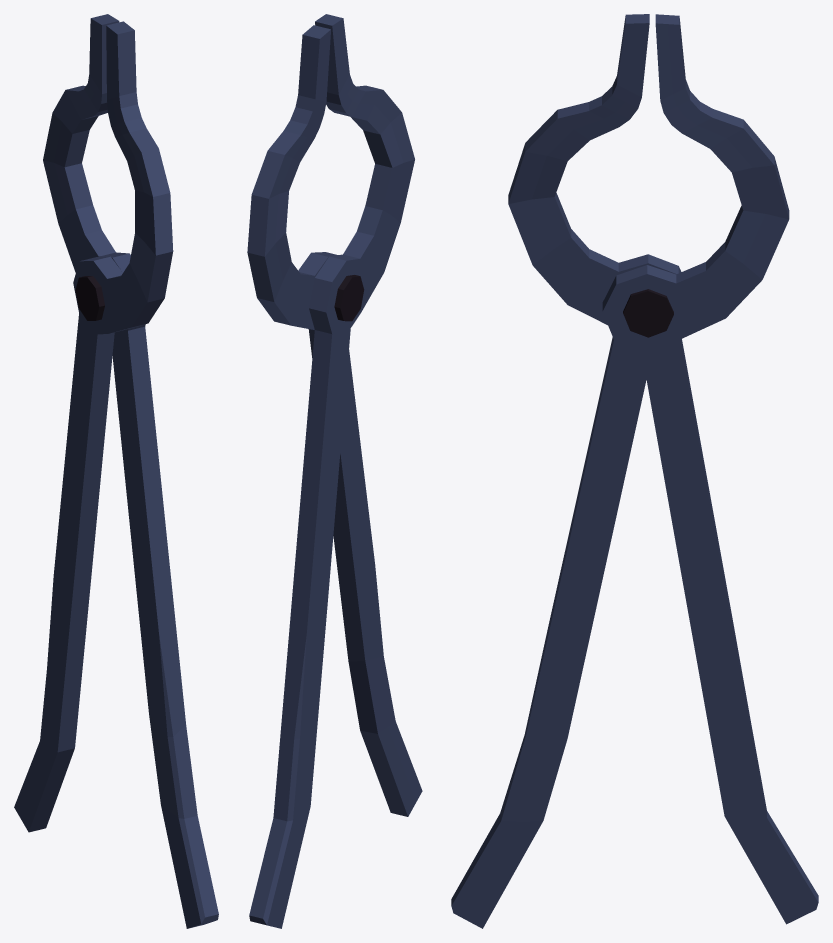
File: PIncers_02.fbx
The picture shows the model from 3 angles, left to right: view 1: azimuth 30°, elevation 25°; view 2: azimuth 150°, elevation 25°; view 3: azimuth 270°, elevation 25°; orthographic projection. The views are drawn at different scales.
Visible parts, largest first — view 1: PoorMan Pincers_02, PoorMan Pincers_02_Arm; view 2: PoorMan Pincers_02, PoorMan Pincers_02_Arm; view 3: PoorMan Pincers_02_Arm, PoorMan Pincers_02.
Part boxes in pixels (box(x1,y1,x2,y2)): PoorMan Pincers_02: box(14, 21, 173, 832); PoorMan Pincers_02_Arm: box(43, 14, 218, 928); PoorMan Pincers_02: box(249, 14, 414, 928); PoorMan Pincers_02_Arm: box(247, 25, 422, 816); PoorMan Pincers_02_Arm: box(451, 14, 789, 928); PoorMan Pincers_02: box(508, 14, 818, 924).
Size of the model in its own units: 5.07 by 90.46 by 33.13.
